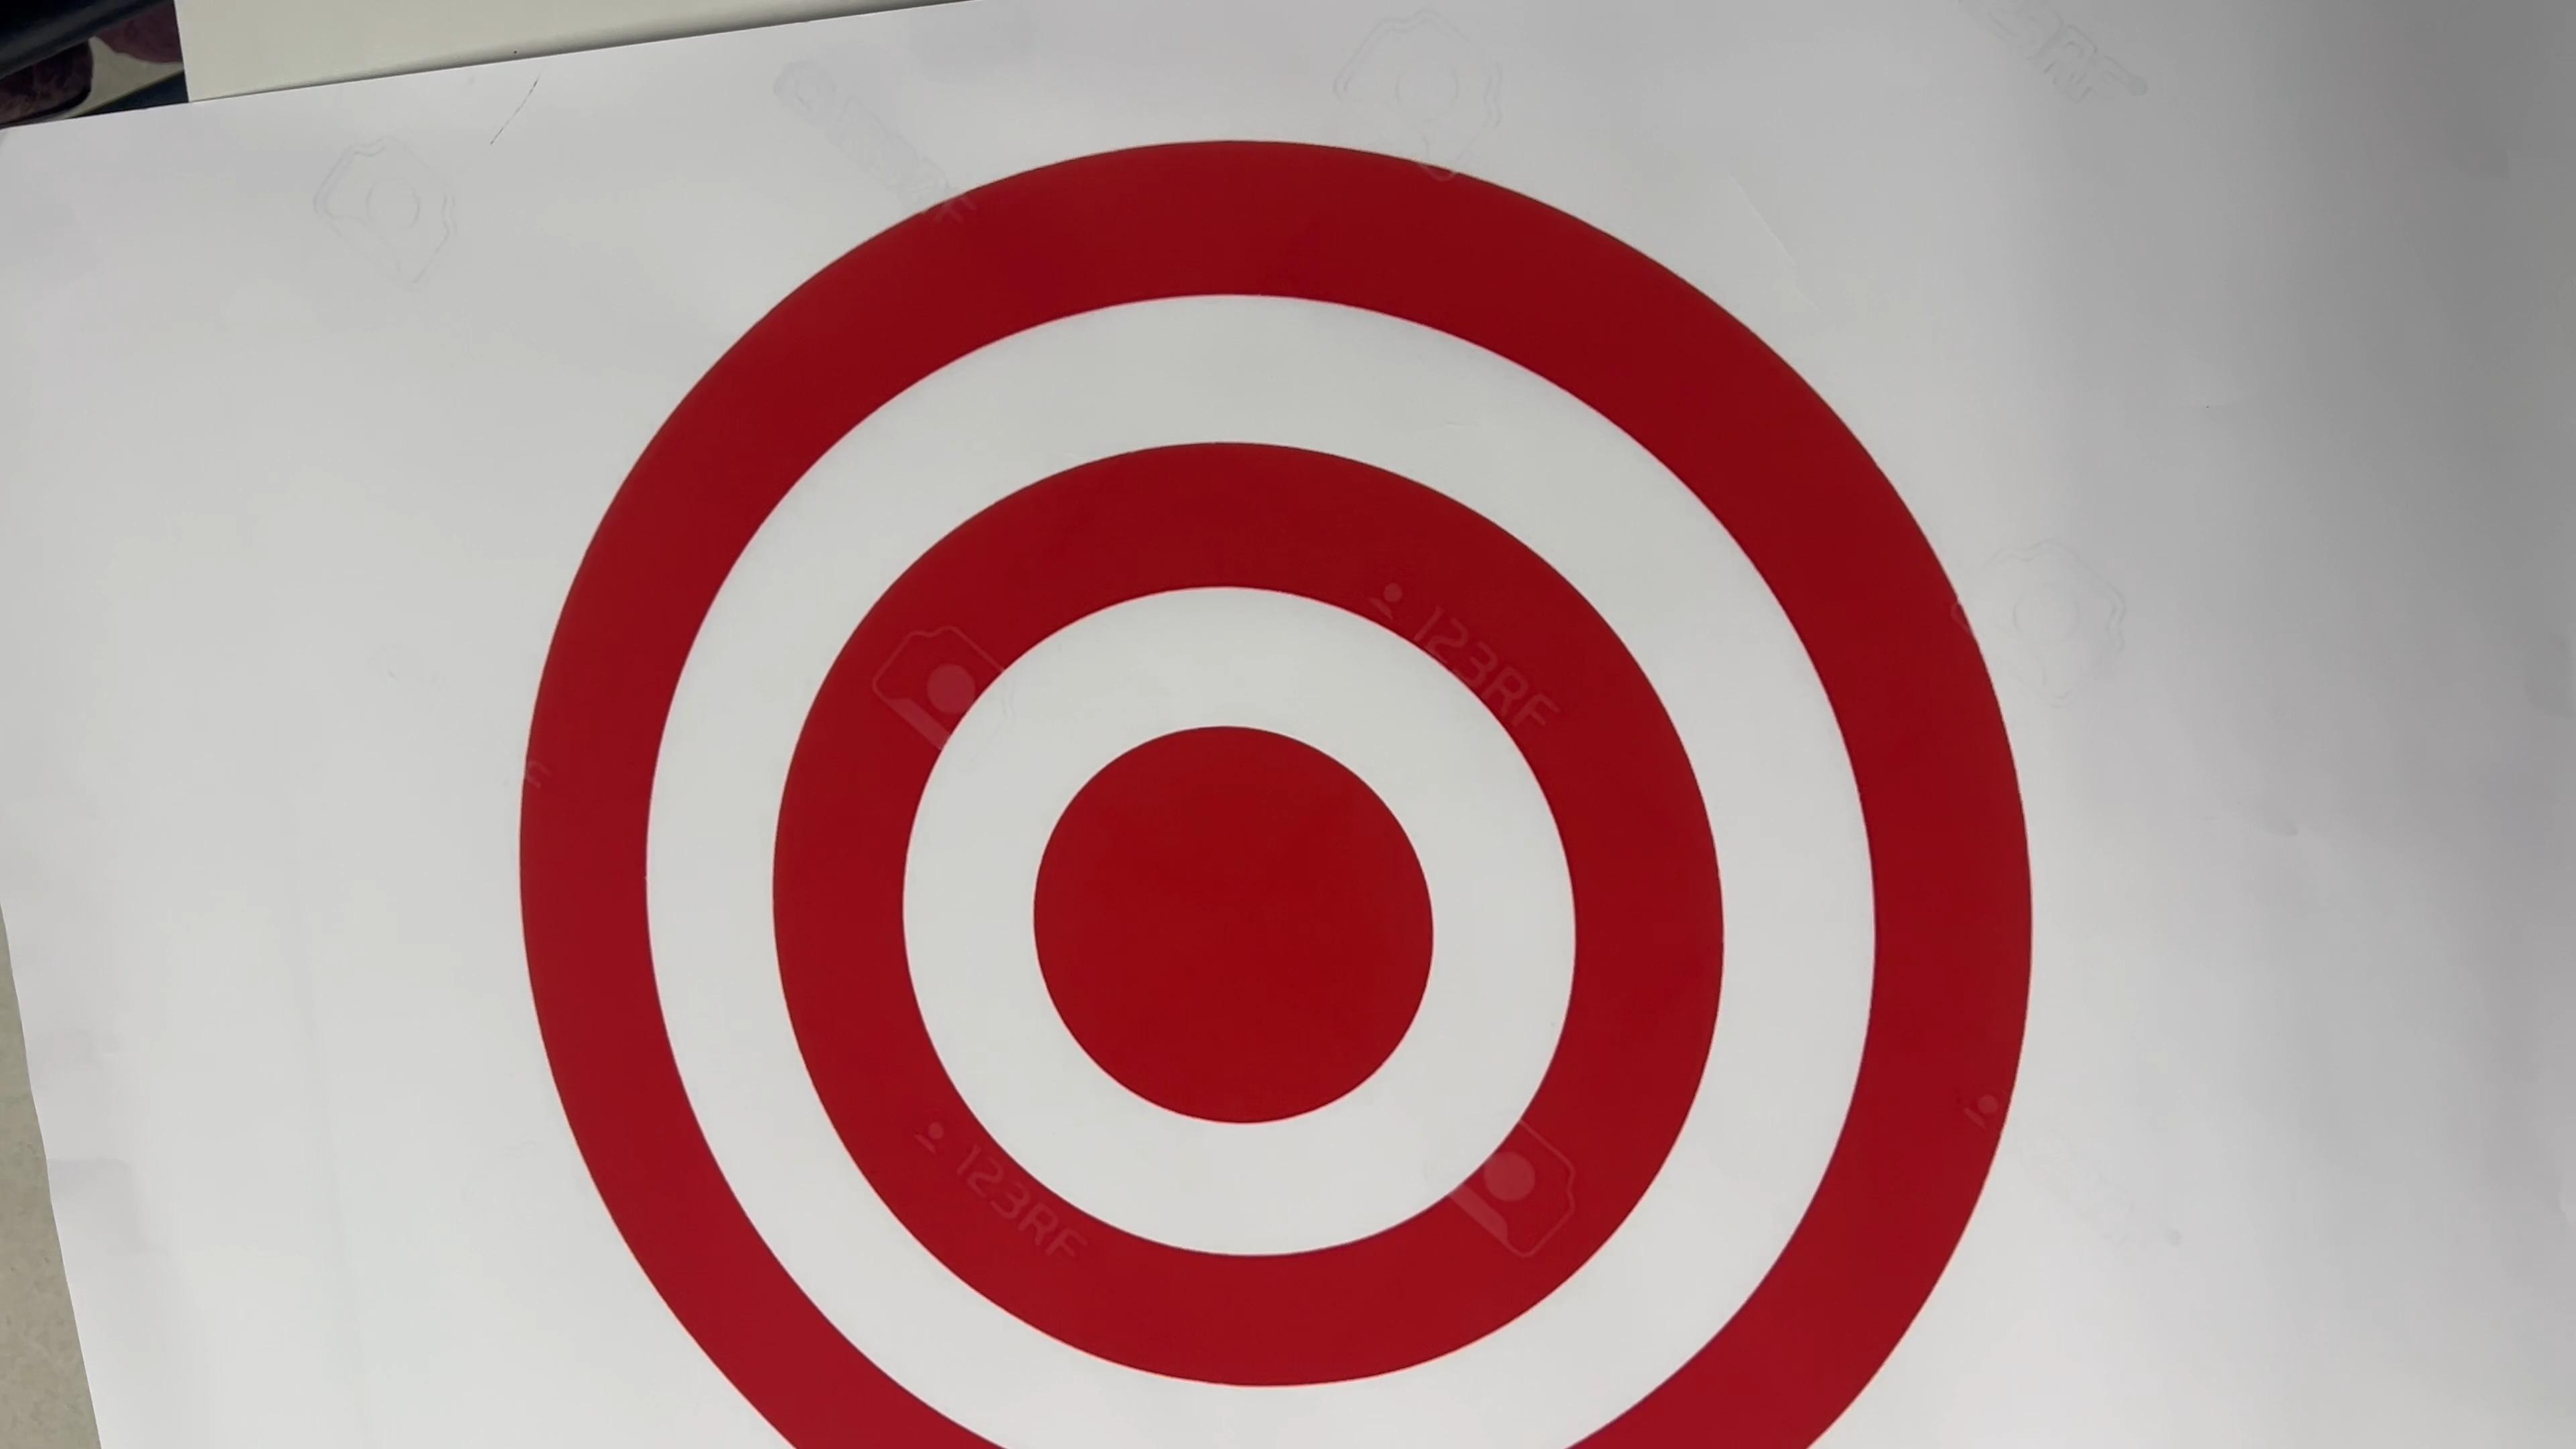target_red: (490, 108, 2123, 1449)
